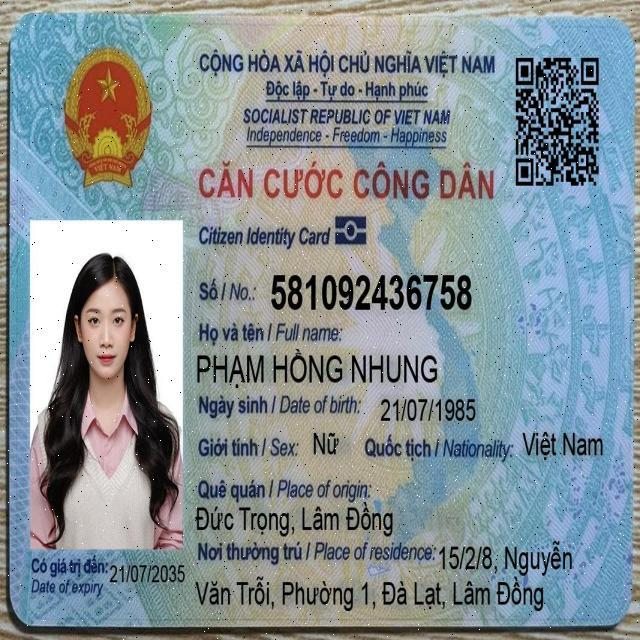current_place: (193, 575, 548, 618), (436, 535, 578, 577)
dob: (375, 390, 479, 431)
expire_date: (107, 556, 187, 590)
gender: (310, 427, 344, 462)
id: (267, 265, 476, 317)
name: (193, 345, 443, 392)
nationality: (518, 423, 608, 466)
origin_place: (192, 498, 398, 540)
qr: (512, 49, 601, 195)
